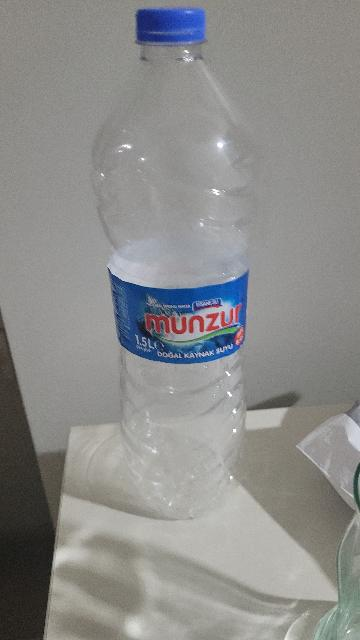Plastik: (86, 6, 259, 525), (128, 0, 208, 48)
